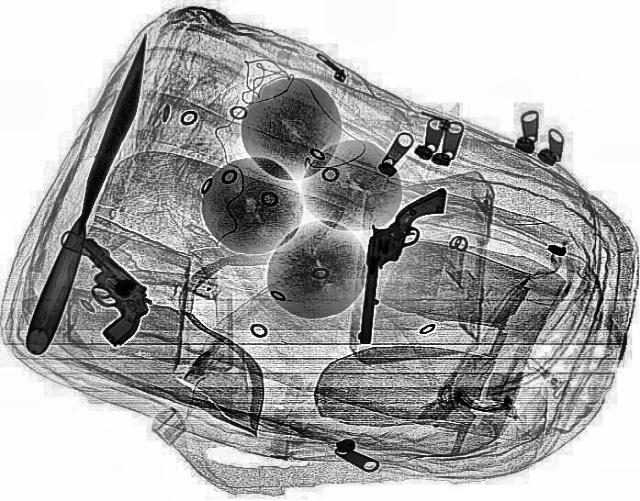Gun: (33, 235, 174, 345), (358, 185, 444, 347)
Knife: (20, 35, 160, 355)
